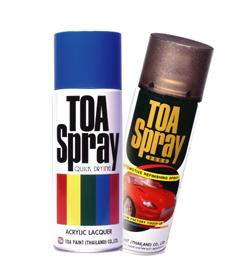Aerosol_cans: (123, 32, 213, 257), (49, 26, 125, 257)
